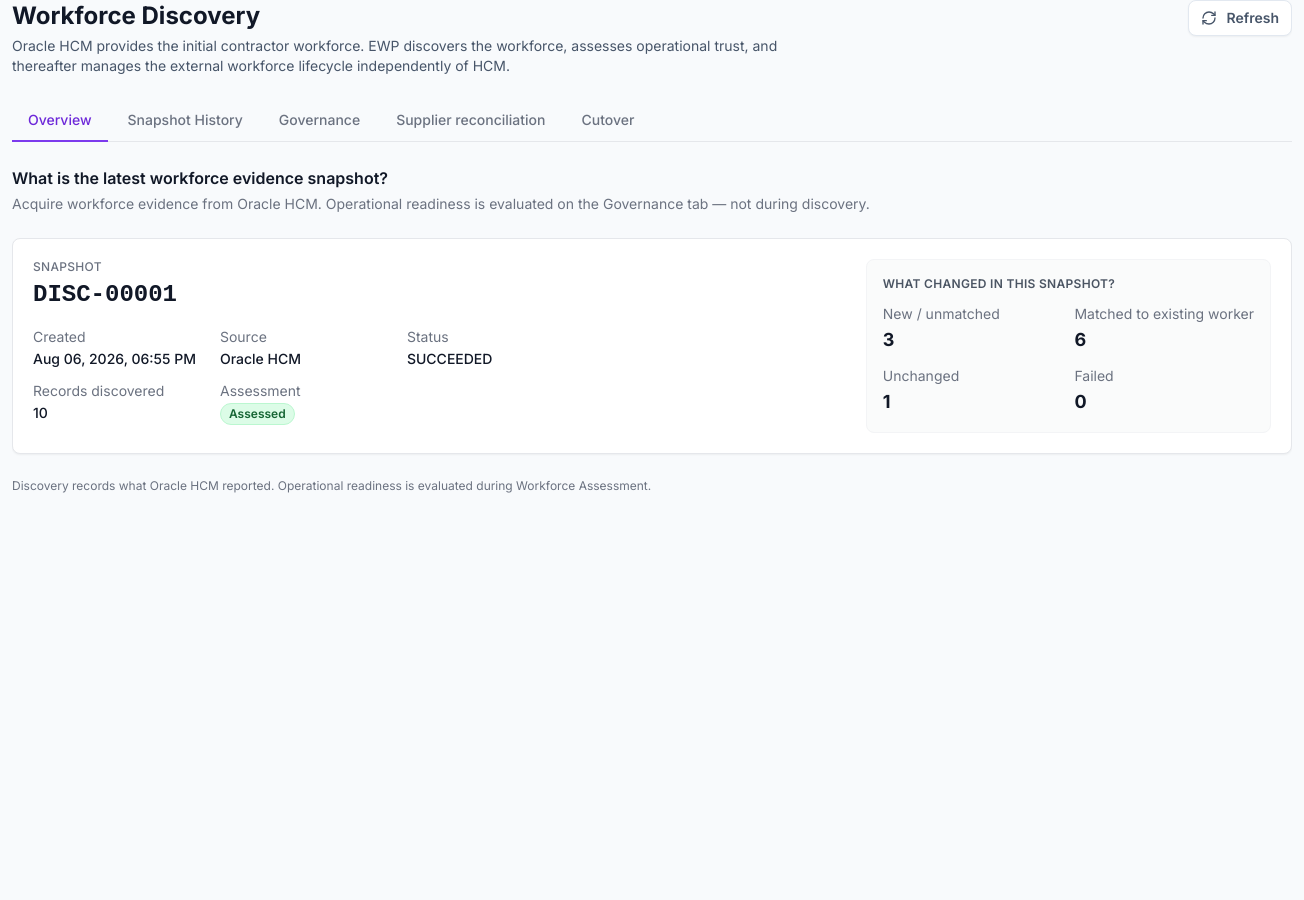
HcmConnectorOperationsPanel — migration lineage toggle (render) › keeps Overview discovery-only and places readiness on Governance
The image size is (1304, 900).
Check: the element with test id "workforce-import-tab-panel-overview" is shown, box top-left (12, 166), bottom-right (1292, 494)
Check: the element with test id "latest-workforce-snapshot" is shown, box top-left (12, 238), bottom-right (1292, 454)
Click the tab "Governance".
click(320, 121)  # box top-left (263, 100), bottom-right (376, 142)
(page scrolled)
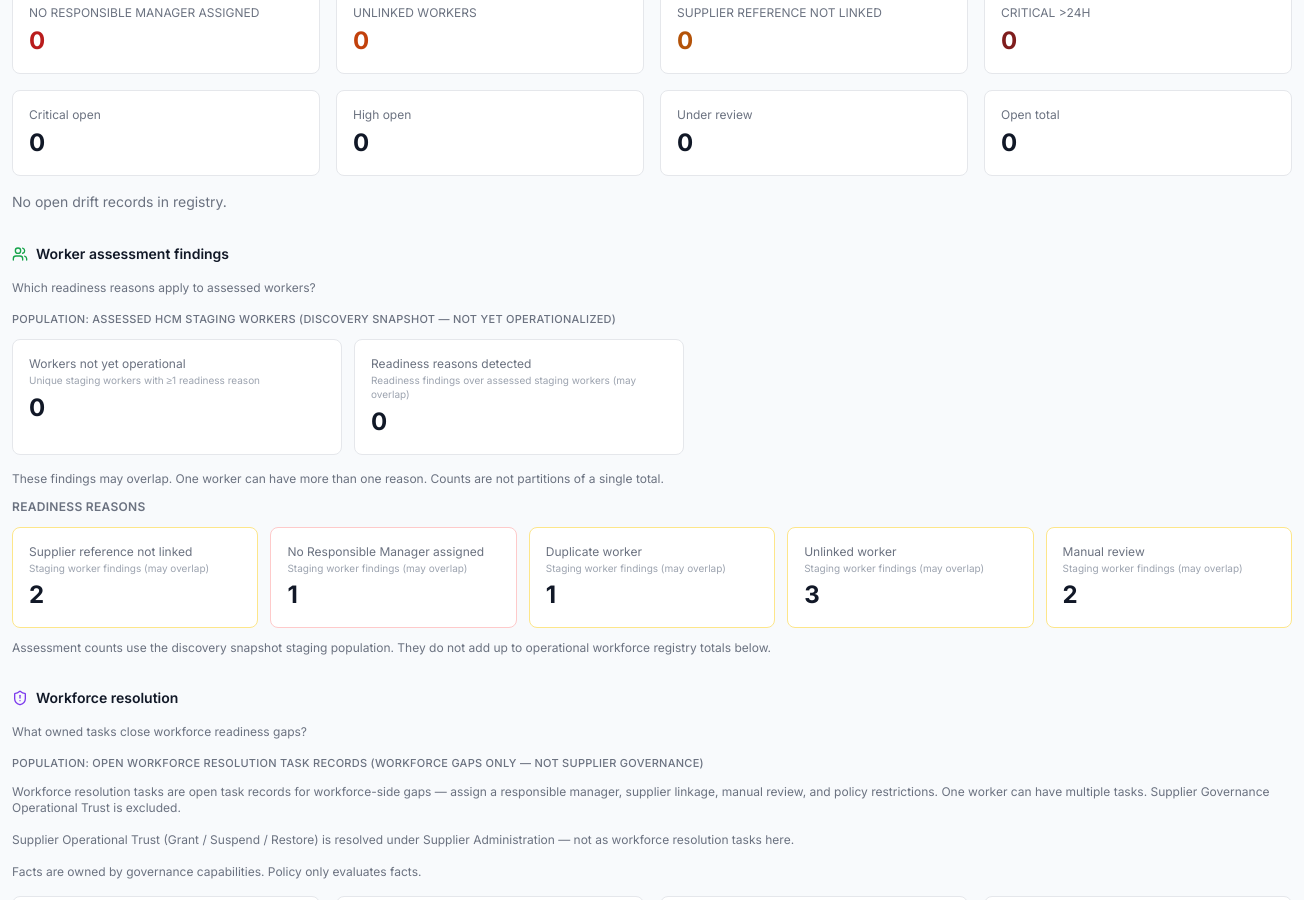
Check: the element with test id "workforce-readiness-section" is shown, box top-left (12, 244), bottom-right (1292, 656)
